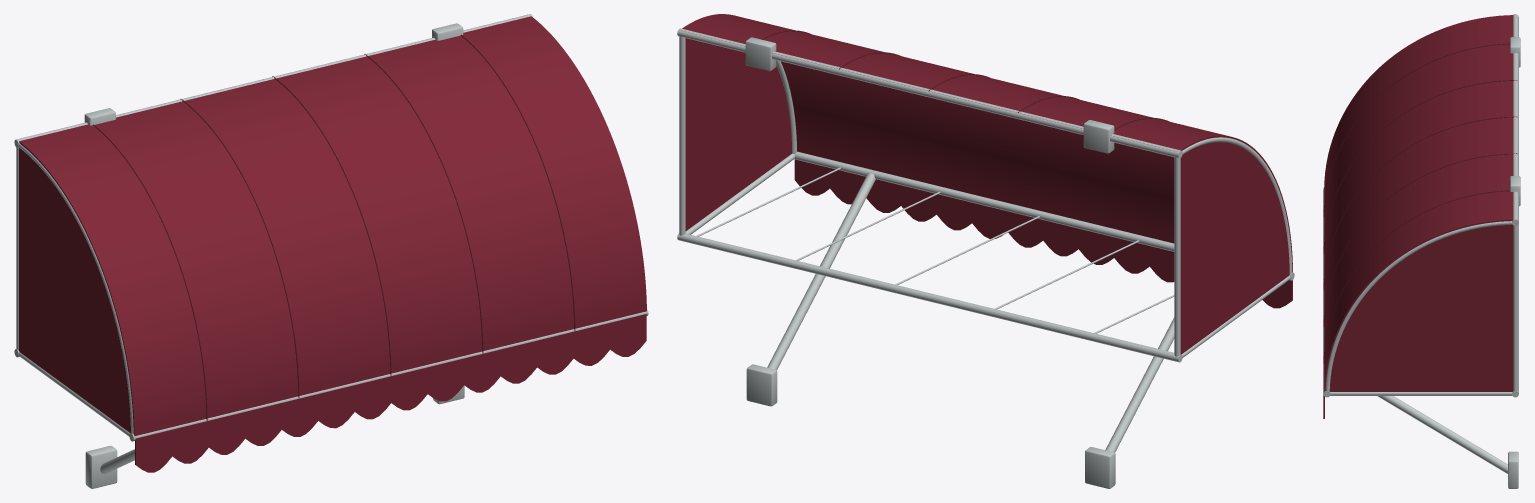
Rendered from A-NEW-20261026-SHOP-AWNING-UNIT-001_LOD1_R3.fbx.
3 views of the same model, side by side, from view 1: azimuth 30°, elevation 25°; view 2: azimuth 150°, elevation 25°; view 3: azimuth 270°, elevation 25° (orthographic). The views are drawn at different scales.
Visible parts, largest first — view 1: thick curved fabric canopy, rounded end fabric, scalloped front valance, front perimeter rail, rear upper rail, generic wall bracket, curved end frame; view 2: thick curved fabric canopy, rounded end fabric, rounded end fabric.001, scalloped front valance, rear lower rail, rear upper rail, front perimeter rail, short inferred mounting brace.001, short inferred mounting brace, rear upright, rear upright.001, generic wall bracket.001 (+5 smaller); view 3: thick curved fabric canopy, rounded end fabric.001, short inferred mounting brace.001, curved end frame.001, rear upper rail, rear upright.001, end lower frame.001, generic wall bracket.001, fabric seam.003, fabric seam, fabric seam.002, fabric seam.004 (+4 smaller).
Part boxes in pixels (box(x1,y1,x2,y2)): thick curved fabric canopy: box(20, 16, 645, 435); rounded end fabric: box(19, 141, 135, 436); scalloped front valance: box(135, 314, 646, 472); front perimeter rail: box(129, 309, 648, 441); rear upper rail: box(14, 14, 532, 147); generic wall bracket: box(85, 445, 117, 488); curved end frame: box(18, 143, 133, 433); thick curved fabric canopy: box(681, 14, 1228, 243); rounded end fabric: box(1177, 135, 1292, 354); rounded end fabric.001: box(682, 14, 792, 230); scalloped front valance: box(794, 159, 1292, 308); rear lower rail: box(677, 233, 1182, 362); rear upper rail: box(677, 28, 1182, 158); front perimeter rail: box(794, 151, 1294, 280); short inferred mounting brace.001: box(767, 172, 875, 369); short inferred mounting brace: box(1105, 317, 1174, 452); rear upright: box(1174, 157, 1180, 356); rear upright.001: box(679, 36, 685, 235); generic wall bracket.001: box(746, 364, 777, 406); thick curved fabric canopy: box(1324, 15, 1513, 384); rounded end fabric.001: box(1324, 219, 1513, 391); short inferred mounting brace.001: box(1377, 396, 1507, 473); curved end frame.001: box(1325, 221, 1512, 391); rear upper rail: box(1512, 14, 1518, 225); rear upright.001: box(1513, 225, 1517, 391); end lower frame.001: box(1330, 392, 1512, 395); generic wall bracket.001: box(1508, 451, 1518, 488); fabric seam.003: box(1323, 153, 1517, 326); fabric seam: box(1323, 43, 1509, 216); fabric seam.002: box(1323, 116, 1517, 290); fabric seam.004: box(1323, 190, 1509, 363).
Bounding box in the file's own units: 252 × 174 × 102.
